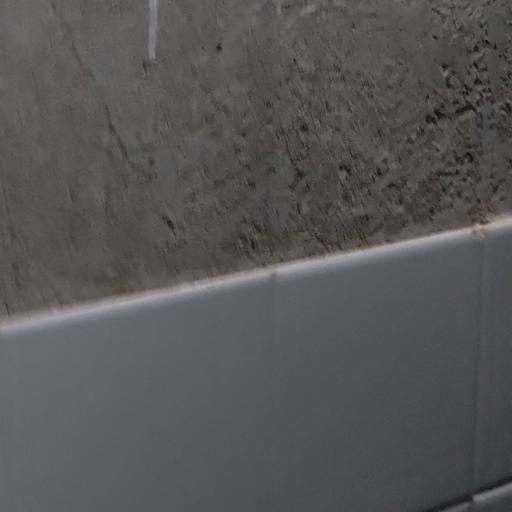spalling: (0, 0, 512, 326)
